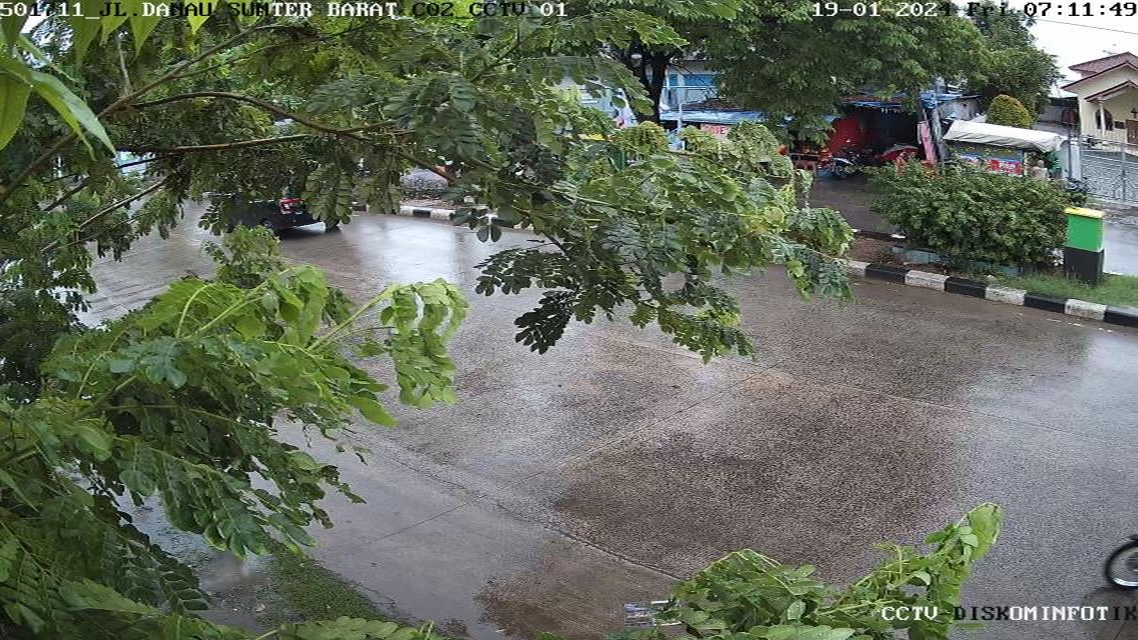Terpal: (948, 117, 1067, 153)
